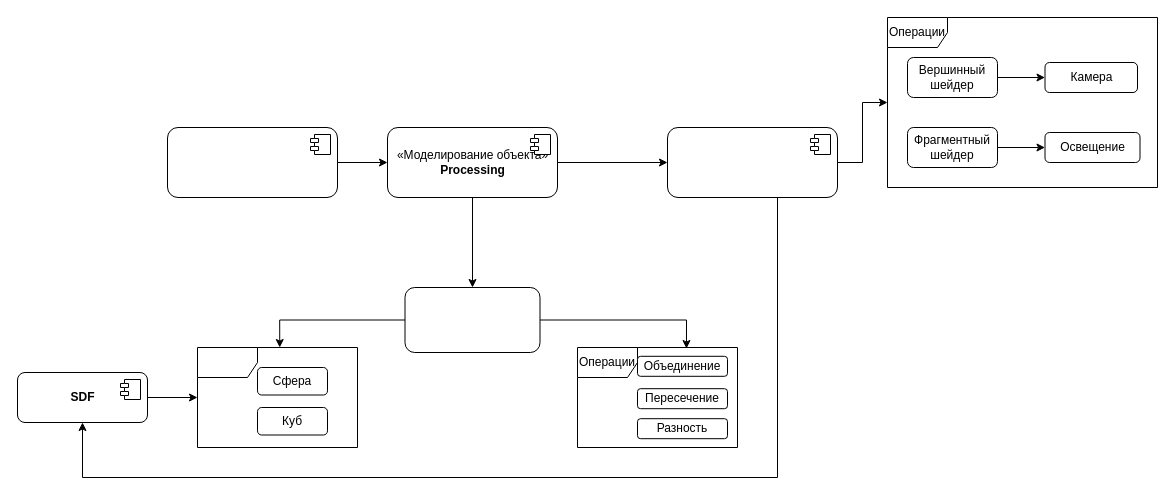
The diagram is 1175 pixels wide and 503 high, and some of its shapes have lost their labels. Each missing label, with the box of its shape:
«Визуализация» Rendering: (666, 126, 838, 198)
«Графический интерфейс» GUI: (166, 126, 338, 198)
Единица моделирования(Узел): (404, 286, 540, 352)
Примитивы: (196, 346, 358, 448)
